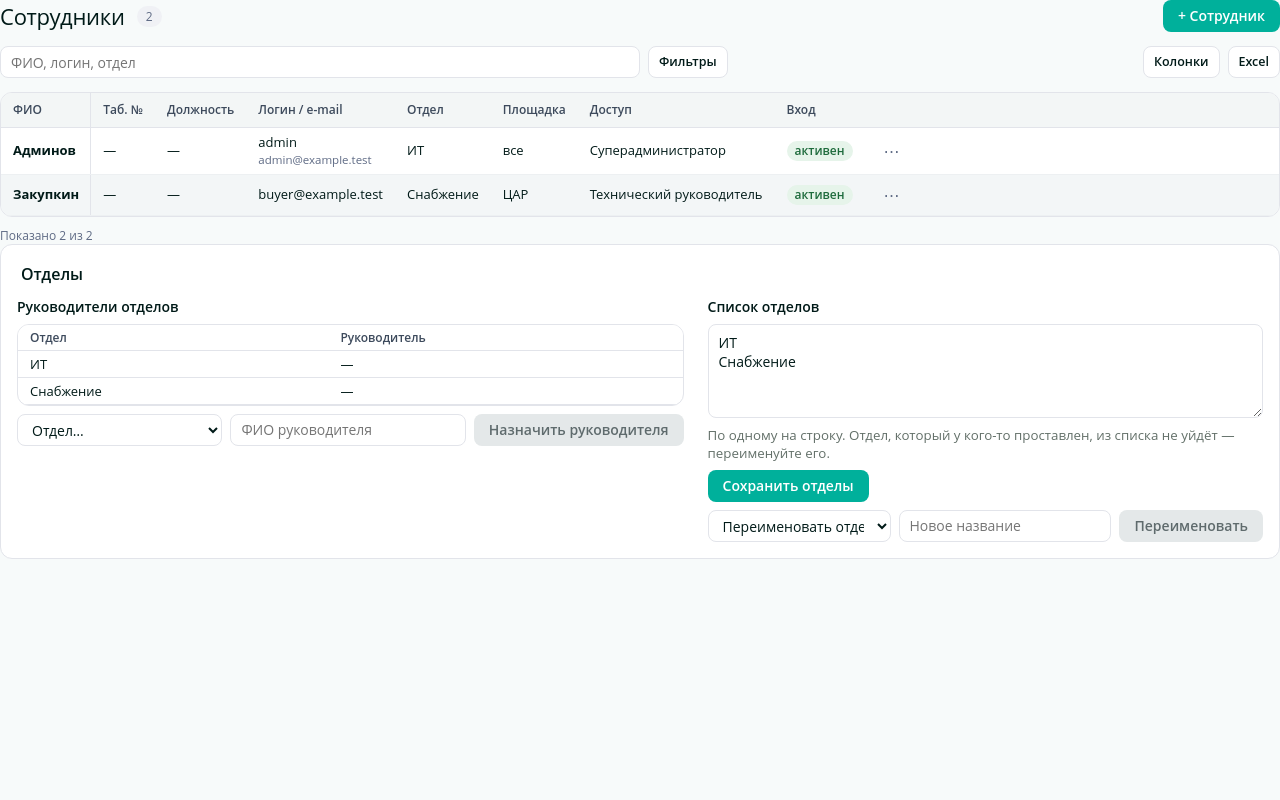
Scenario: edits an employee, keeps the password when the field is empty and shows the last-admin refusal
This screenshot has width=1280, height=800.
Click the button "⋯" in the row of "Админов".
click(892, 151)  # box x1=876 y1=137 x2=906 y2=165
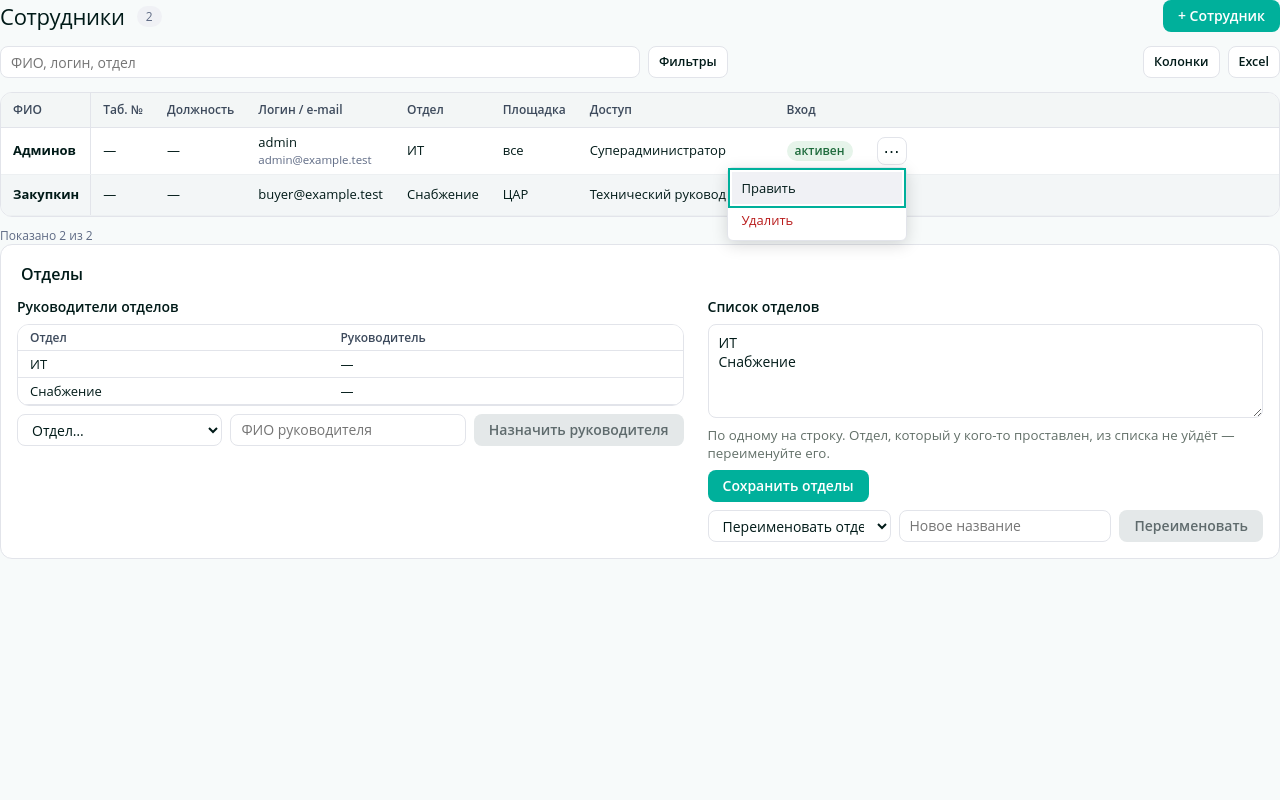
Click the menu item "Править".
click(816, 188)  # box x1=732 y1=172 x2=902 y2=204
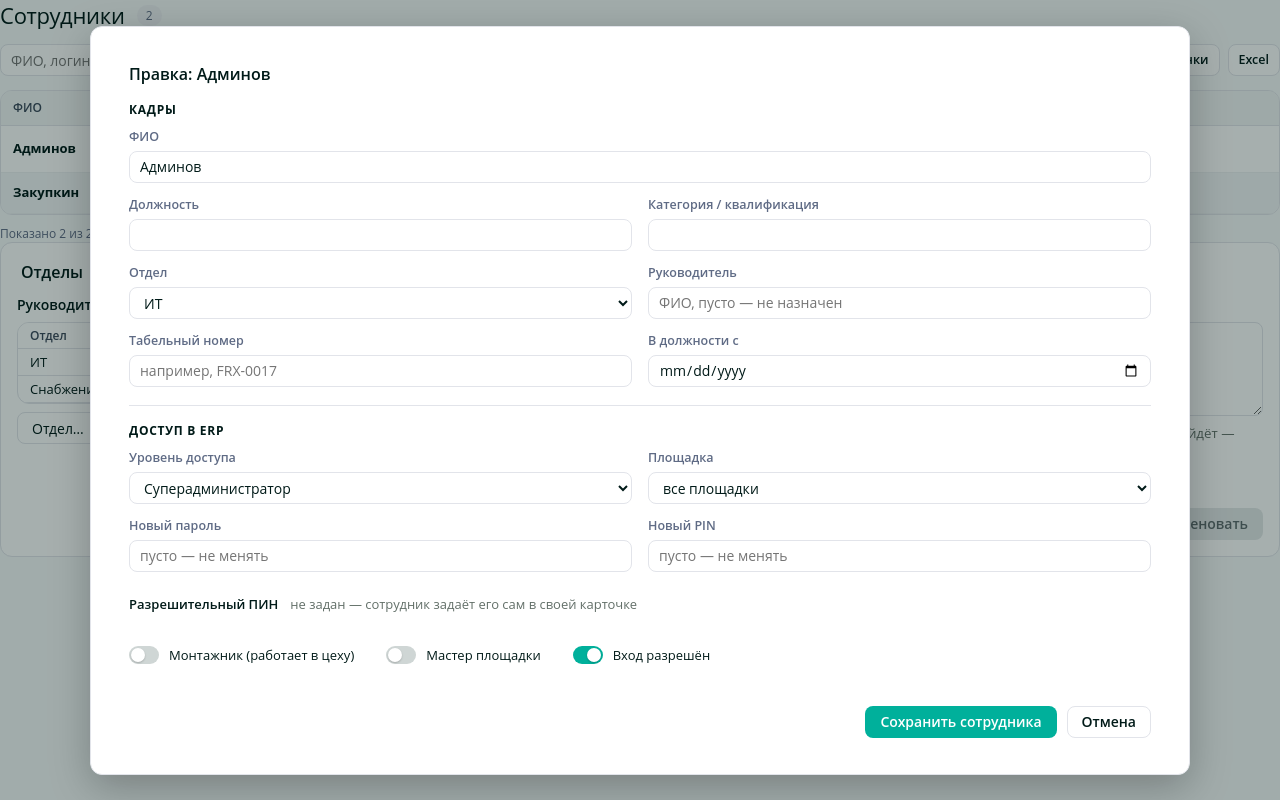
Click the switch labelled "Вход разрешён".
click(588, 654)  # box x1=573 y1=646 x2=603 y2=664
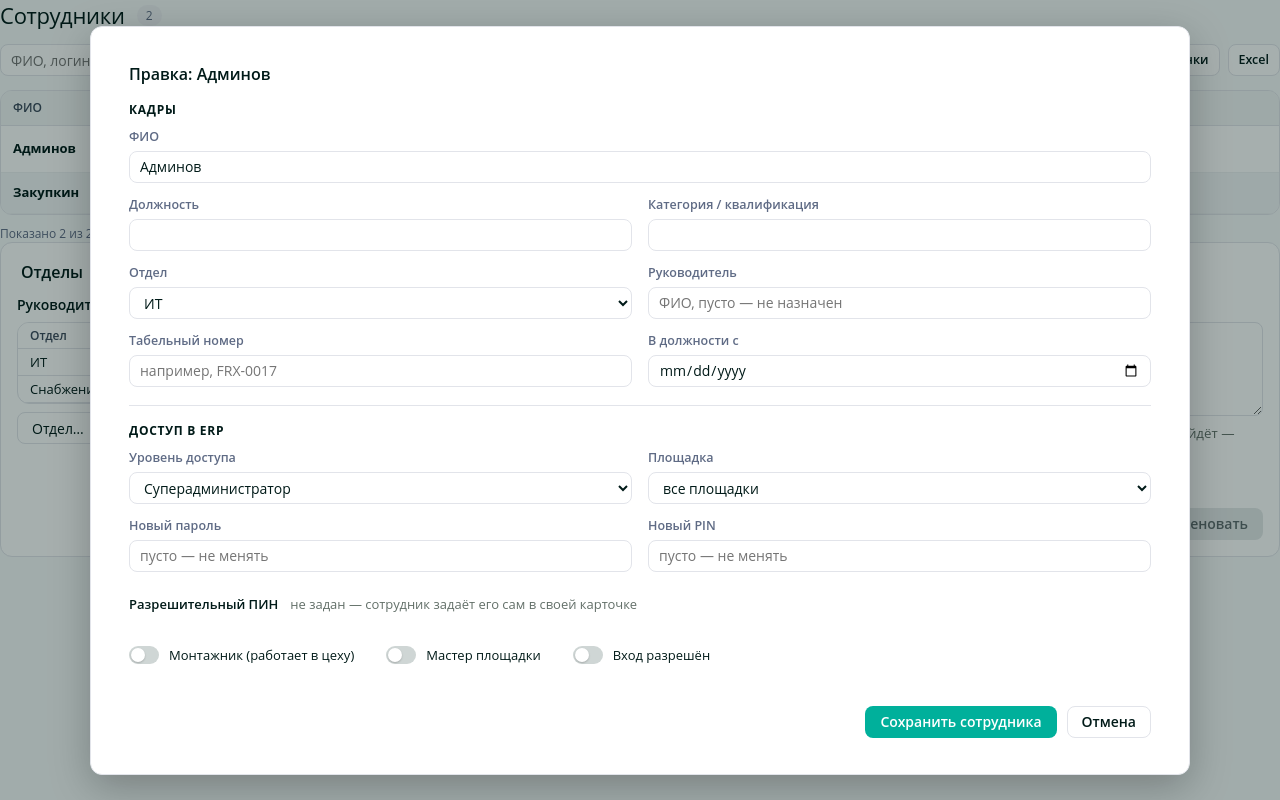
Click the button "Сохранить сотрудника".
click(961, 722)  # box x1=866 y1=706 x2=1056 y2=738
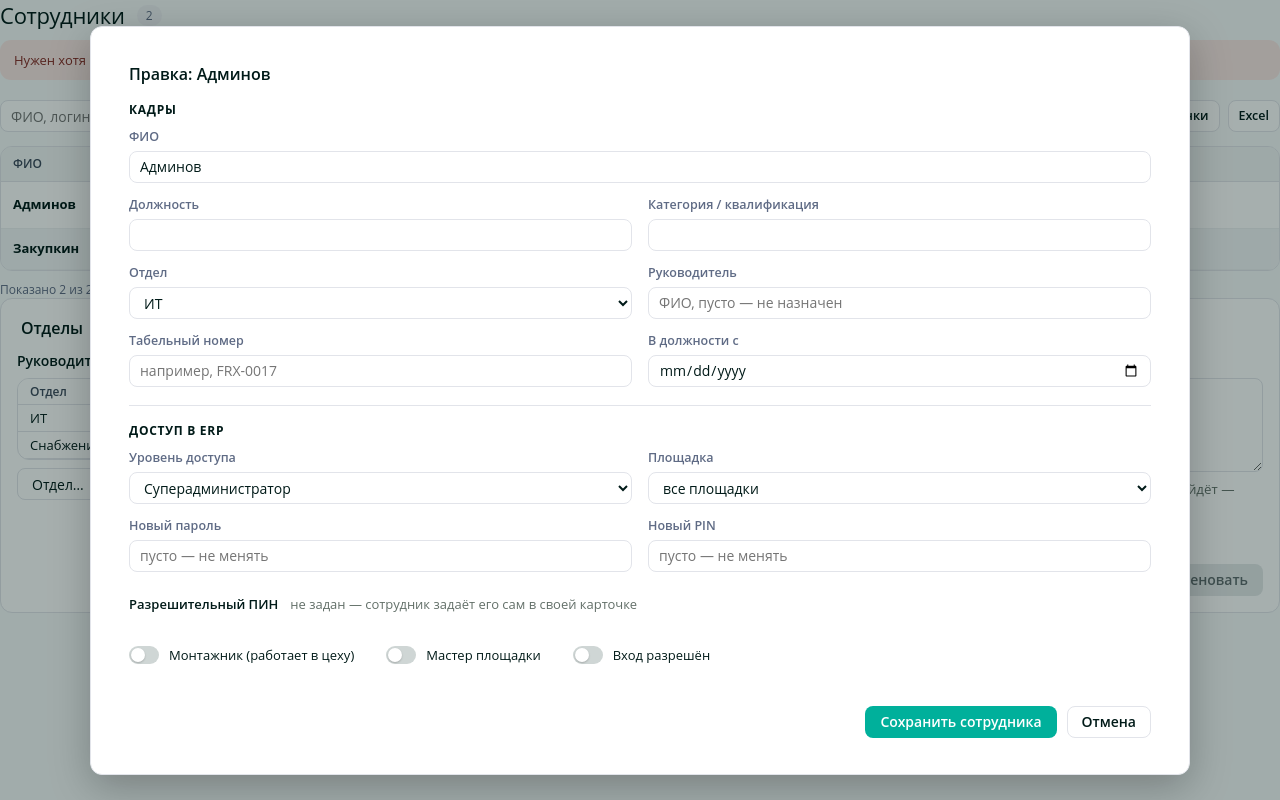
Check: the message shows "Нужен хотя бы один активный суперадминистратор", box x1=14 y1=51 x2=720 y2=69
